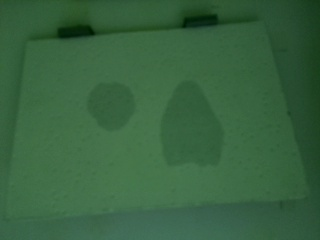Water_detected: (170, 98, 217, 163), (98, 92, 135, 124)
